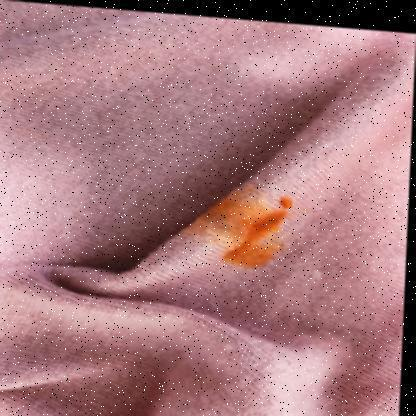kimchi: (204, 196, 301, 267)
